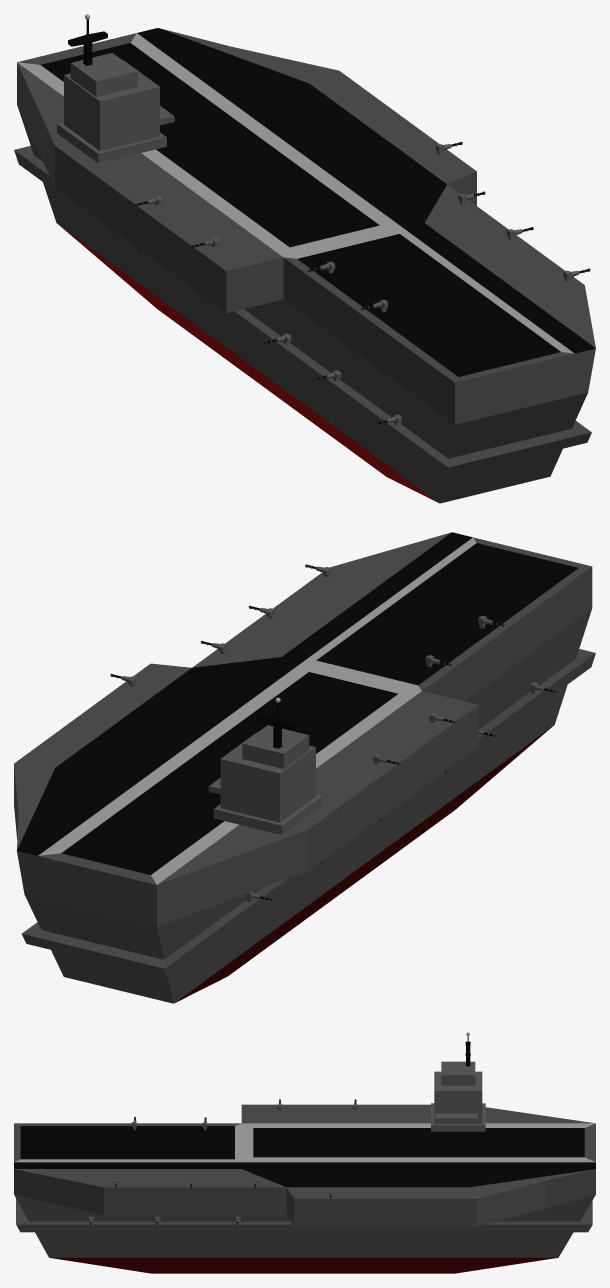
Rendered from Carrier.fbx.
The picture shows the model from 3 angles, top to bottom: view 1: azimuth 30°, elevation 25°; view 2: azimuth 150°, elevation 25°; view 3: azimuth 270°, elevation 25°; orthographic projection. The views are drawn at different scales.
Visible parts, largest first — view 1: Cube; view 2: Cube; view 3: Cube.
Part boxes in pixels (x1=…): Cube: x1=14, y1=14, x2=595, y2=503; Cube: x1=14, y1=532, x2=595, y2=1003; Cube: x1=14, y1=1032, x2=595, y2=1273.
Bounding box in the file's own units: 9968 × 9349 × 24550.
